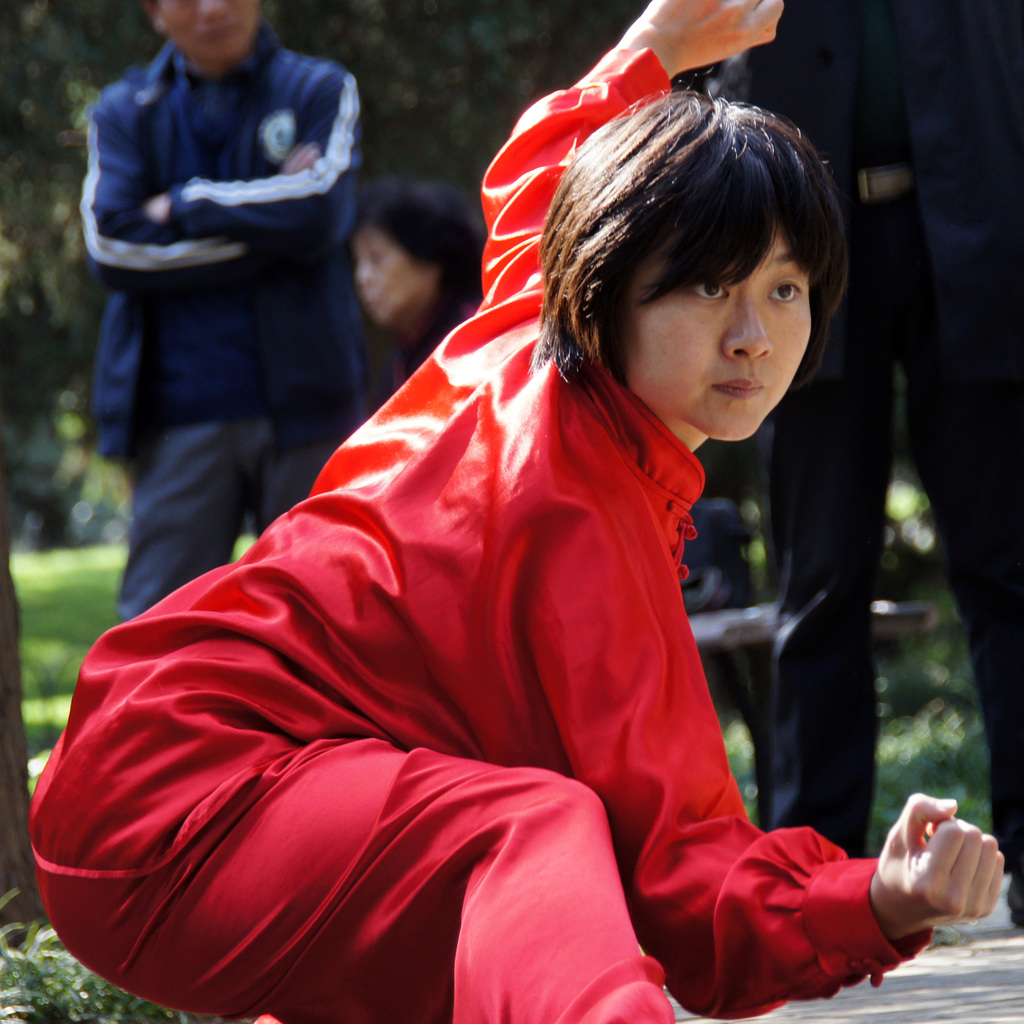person: (346, 174, 486, 407)
